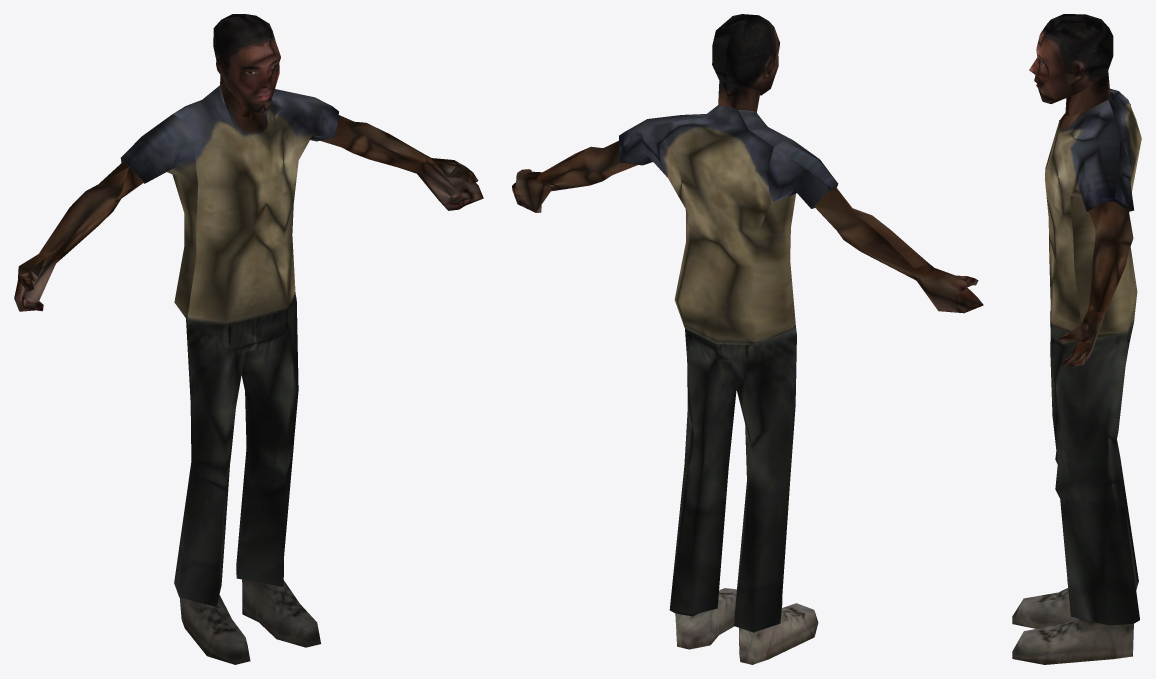
File: CSomal06.glb
3 renders of one model, left to right at view 1: azimuth 30°, elevation 25°; view 2: azimuth 150°, elevation 25°; view 3: azimuth 270°, elevation 25°, orthographic.
Visible parts, largest first — view 1: _CSomal06; view 2: _CSomal06; view 3: _CSomal06.
Boxes of the visible parts, box(x1,y1,x2,y2) form: _CSomal06: box(14, 14, 483, 664); _CSomal06: box(512, 14, 983, 664); _CSomal06: box(1012, 14, 1141, 664).
Bounding box in the file's own units: 1.6 × 2.02 × 0.3833.
Materials: 2 (2 with a texture image).
